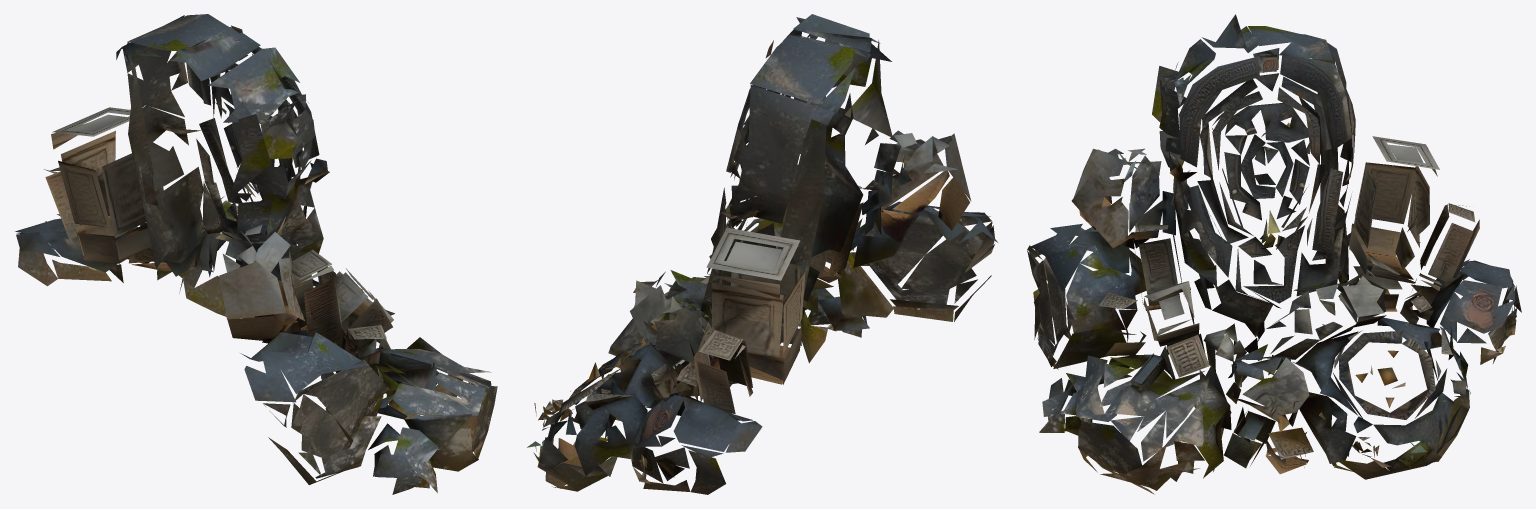
The model's file is jun_boulder_ruin_mix_c_LOD3.glb.
3 views of the same model, side by side, from view 1: azimuth 30°, elevation 25°; view 2: azimuth 150°, elevation 25°; view 3: azimuth 270°, elevation 25° (orthographic). The views are drawn at different scales.
Parts seen in each view (by area): view 1: tripo_node_818d9c6d-30bf-4788-a4f3-a3156c601ce0; view 2: tripo_node_818d9c6d-30bf-4788-a4f3-a3156c601ce0; view 3: tripo_node_818d9c6d-30bf-4788-a4f3-a3156c601ce0.
Part boxes in pixels (x1,y1,x2,y2): tripo_node_818d9c6d-30bf-4788-a4f3-a3156c601ce0: (15, 14, 497, 494); tripo_node_818d9c6d-30bf-4788-a4f3-a3156c601ce0: (527, 14, 997, 494); tripo_node_818d9c6d-30bf-4788-a4f3-a3156c601ce0: (1027, 14, 1521, 494).
Size of the model in its own units: 0.6074 by 0.854 by 1.01.
1 material, 1 textured.
